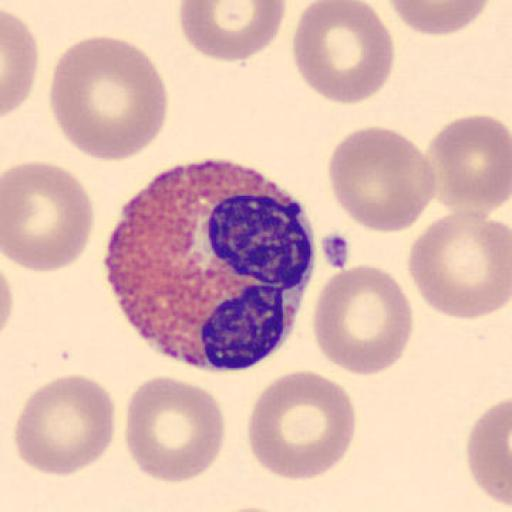Platelet: (316, 228, 356, 276)
RBC: (48, 34, 170, 162), (244, 370, 358, 484), (326, 126, 438, 234), (122, 372, 228, 486), (310, 262, 415, 376), (406, 213, 510, 323), (12, 371, 116, 481), (290, 0, 396, 104), (0, 159, 95, 273), (425, 112, 511, 218), (178, 0, 287, 62), (464, 395, 510, 506), (367, 0, 491, 37), (0, 10, 40, 120)
WBC: (100, 157, 314, 372)
